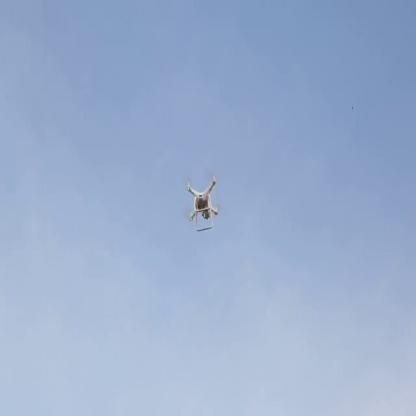drone: (181, 173, 223, 226)
